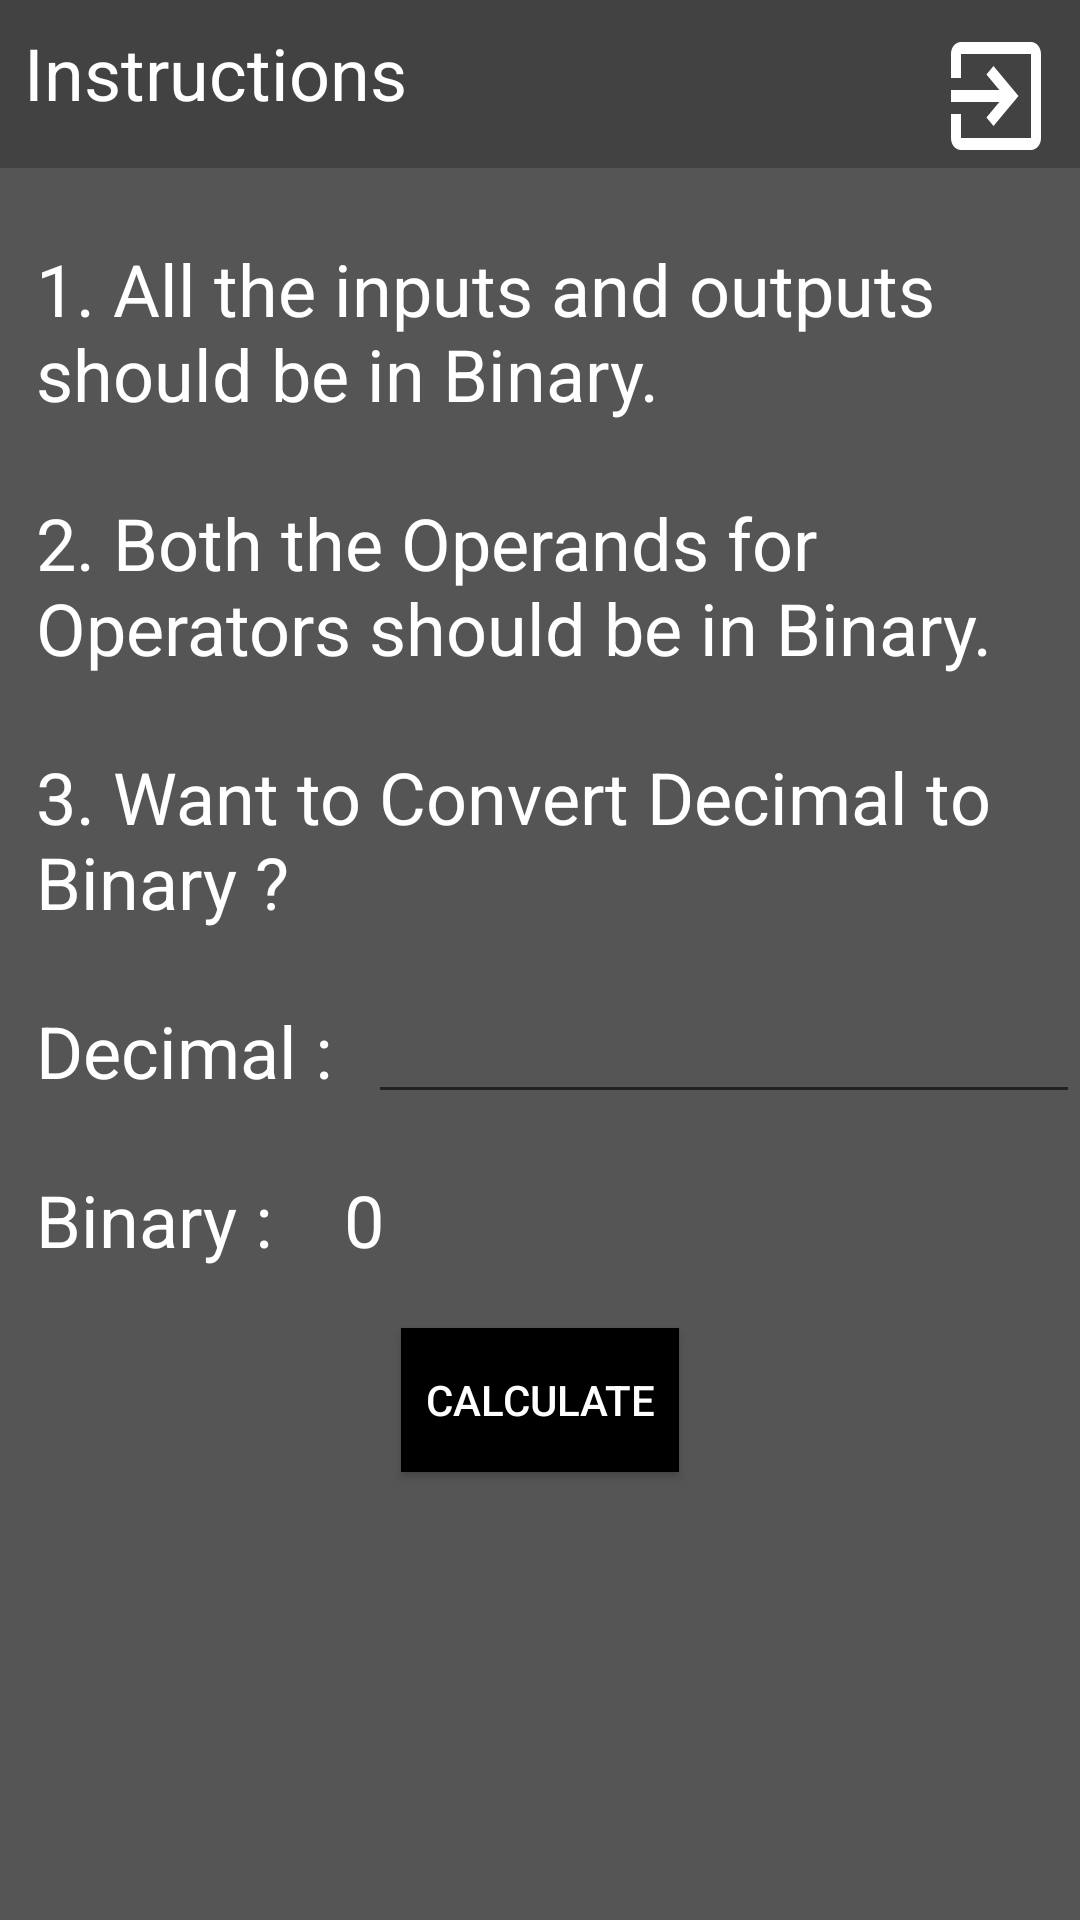

Where icons sit on this 1080×1920 app screen, as (x1, y1, x2, y2):
exit to app: (951, 42, 1041, 150)
